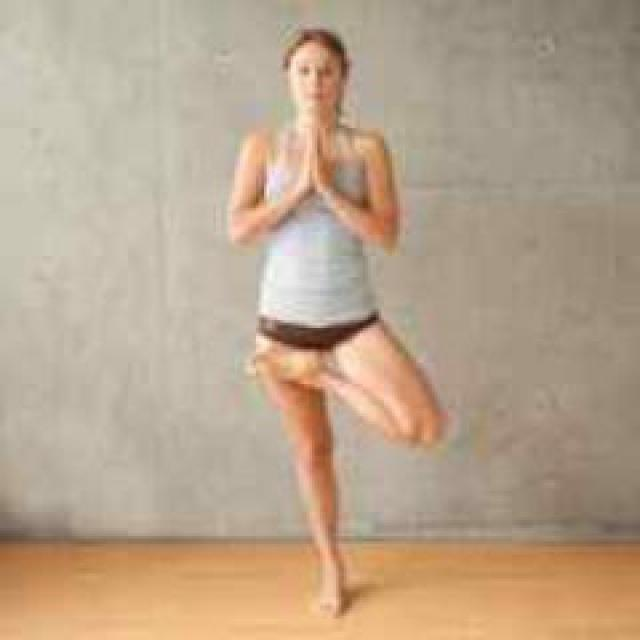yoga-pose tree: (231, 27, 456, 610)
